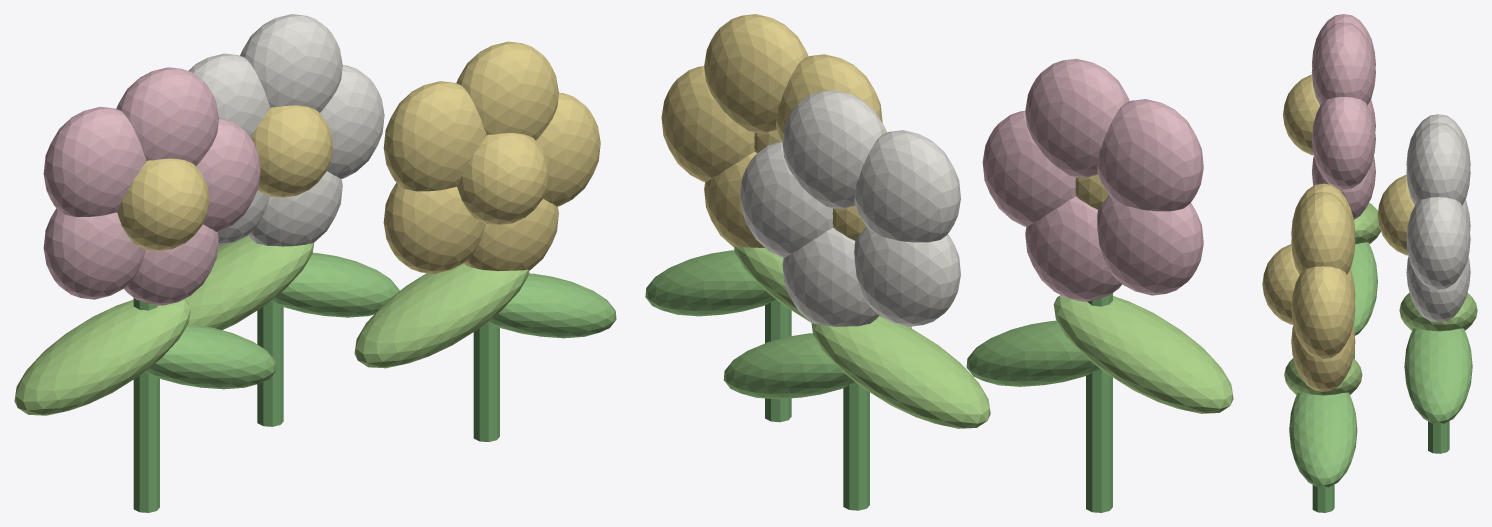
The model's file is flower_patch.glb.
3 views of the same model, side by side, from view 1: azimuth 30°, elevation 25°; view 2: azimuth 150°, elevation 25°; view 3: azimuth 270°, elevation 25° (orthographic). The views are drawn at different scales.
Visible parts, largest first — view 1: flower_patch_01_leaf, flower_patch_19_leaf, flower_patch_23_petal, flower_patch_05_petal, flower_patch_04_petal, flower_patch_13_petal, flower_patch_22_petal, flower_patch_10_leaf, flower_patch_24_petal, flower_patch_06_petal, flower_patch_26_center, flower_patch_08_center (+15 smaller); view 2: flower_patch_01_leaf, flower_patch_10_leaf, flower_patch_05_petal, flower_patch_14_petal, flower_patch_04_petal, flower_patch_13_petal, flower_patch_22_petal, flower_patch_15_petal, flower_patch_06_petal, flower_patch_21_petal, flower_patch_03_petal, flower_patch_12_petal (+13 smaller); view 3: flower_patch_11_leaf, flower_patch_20_leaf, flower_patch_21_petal, flower_patch_12_petal, flower_patch_03_petal, flower_patch_13_petal, flower_patch_22_petal, flower_patch_04_petal, flower_patch_16_petal, flower_patch_25_petal, flower_patch_17_center, flower_patch_26_center (+11 smaller).
Boxes of the visible parts, x1,y1,x2,y2 form: flower_patch_01_leaf: (14, 299, 190, 415); flower_patch_19_leaf: (354, 263, 529, 368); flower_patch_23_petal: (383, 81, 486, 191); flower_patch_05_petal: (43, 106, 146, 216); flower_patch_04_petal: (116, 67, 218, 165); flower_patch_13_petal: (240, 14, 342, 112); flower_patch_22_petal: (456, 41, 558, 140); flower_patch_10_leaf: (184, 235, 313, 330); flower_patch_24_petal: (383, 183, 485, 273); flower_patch_06_petal: (43, 208, 146, 299); flower_patch_26_center: (457, 133, 549, 225); flower_patch_08_center: (117, 158, 209, 250); flower_patch_01_leaf: (1053, 295, 1233, 413); flower_patch_10_leaf: (811, 315, 990, 428); flower_patch_05_petal: (1097, 99, 1203, 211); flower_patch_14_petal: (854, 130, 960, 242); flower_patch_04_petal: (1025, 58, 1129, 177); flower_patch_13_petal: (782, 90, 886, 208); flower_patch_22_petal: (704, 14, 808, 132); flower_patch_15_petal: (854, 226, 960, 326); flower_patch_06_petal: (1097, 195, 1203, 295); flower_patch_21_petal: (661, 66, 754, 181); flower_patch_03_petal: (982, 111, 1075, 226); flower_patch_12_petal: (740, 142, 832, 257); flower_patch_11_leaf: (1404, 328, 1472, 423); flower_patch_20_leaf: (1289, 392, 1357, 487); flower_patch_21_petal: (1291, 266, 1355, 358); flower_patch_12_petal: (1406, 197, 1470, 289); flower_patch_03_petal: (1312, 97, 1375, 189); flower_patch_13_petal: (1406, 122, 1470, 205); flower_patch_22_petal: (1291, 191, 1355, 274); flower_patch_04_petal: (1312, 22, 1375, 105); flower_patch_16_petal: (1406, 256, 1470, 322); flower_patch_25_petal: (1291, 326, 1355, 391); flower_patch_17_center: (1377, 174, 1414, 255); flower_patch_26_center: (1262, 244, 1299, 324).
Bounding box in the file's own units: 1.35 × 0.959 × 0.5232.
